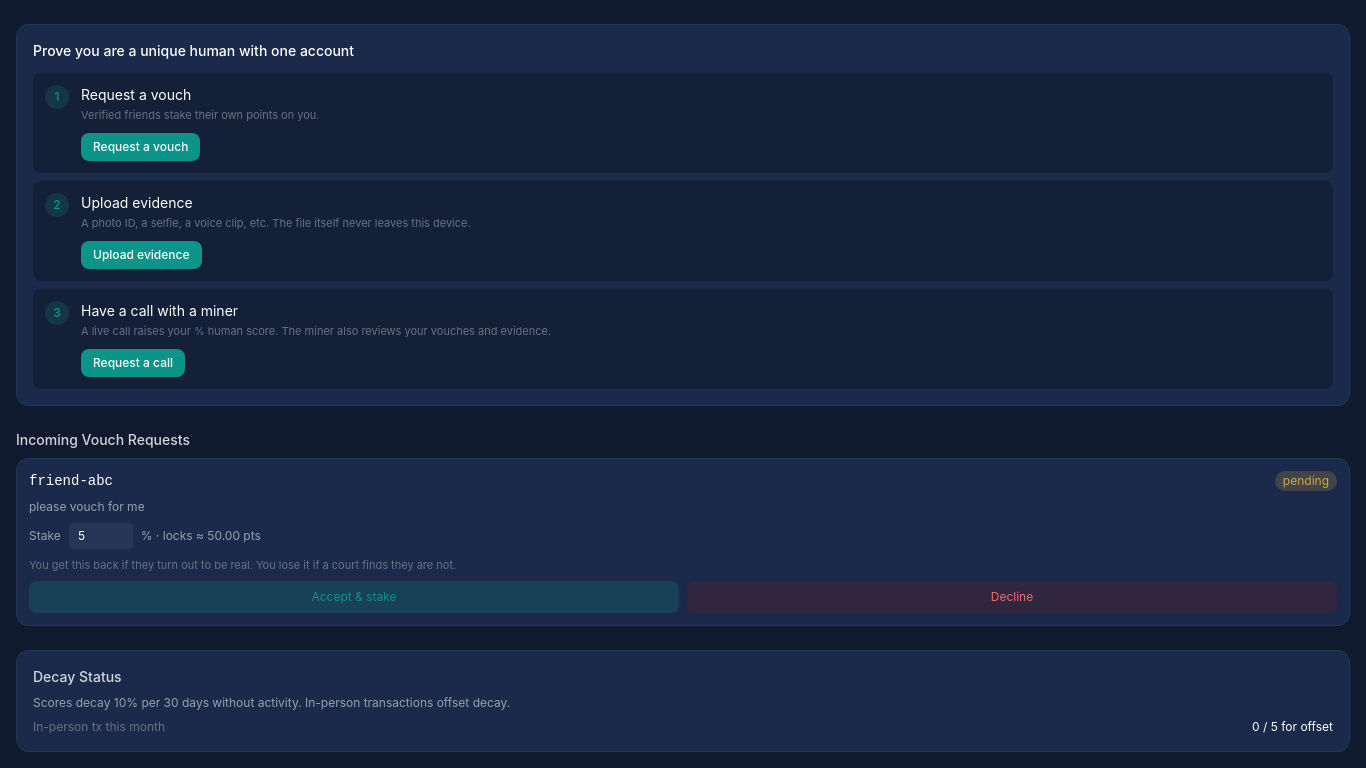
Test: Verify incoming vouch requests › leaves the request pending when the stake is rejected
(page scrolled)
Click the button "Accept & stake" at (354, 597), box [29, 581, 679, 613]
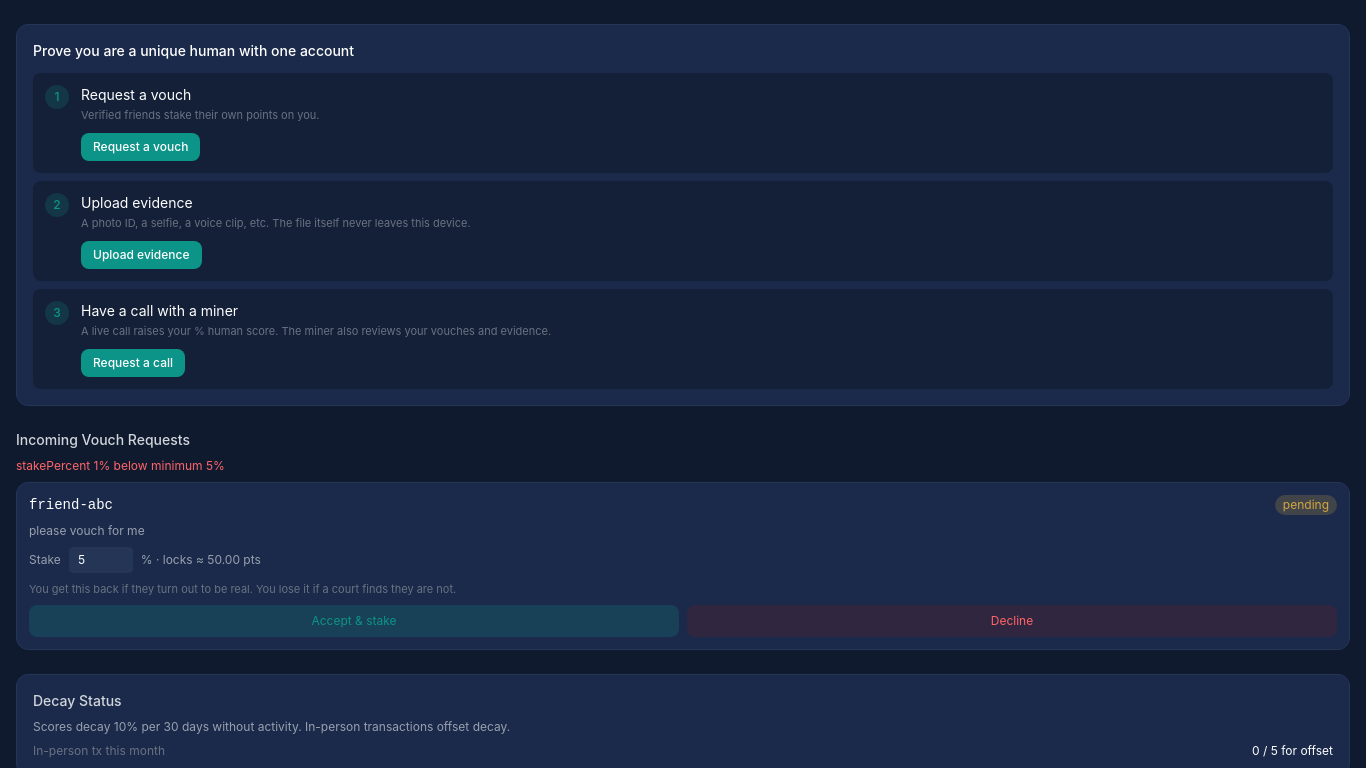
expect the text "stakePercent 1% below minimum 5%" is shown: met, box [16, 458, 225, 473]
